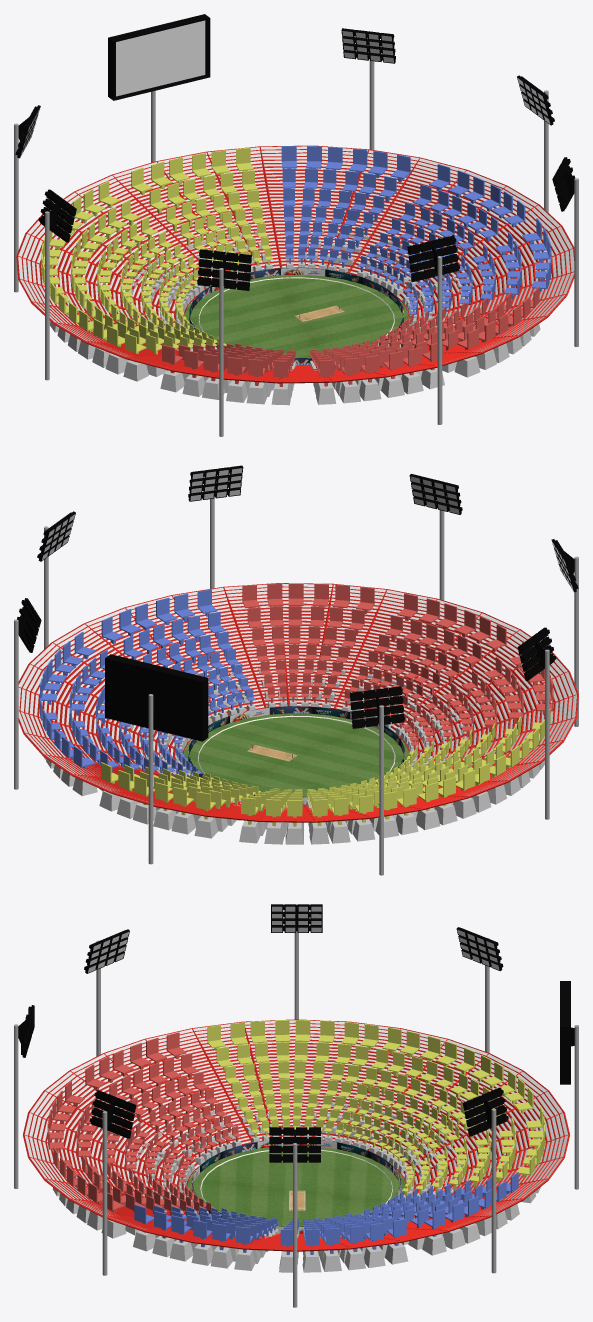
File: Cricket stadium.fbx
The picture shows the model from 3 angles, top to bottom: view 1: azimuth 30°, elevation 25°; view 2: azimuth 150°, elevation 25°; view 3: azimuth 270°, elevation 25°; orthographic projection. The views are drawn at different scales.
Visible parts, largest first — view 1: Chairs, outer area.001, outer area, Ground .009, Cube, Cube.002, Cylinder, Cube.003, Cube.006, Cube.001, Ground .001, Cube.005 (+7 smaller); view 2: Chairs, outer area.001, outer area, Ground .009, Cube, Cube.007, Cube.004, Cylinder, Cube.003, Cube.001, Ground .005, Cube.005 (+7 smaller); view 3: Chairs, outer area.001, outer area, Ground .009, Cube.005, Cylinder, Cube.001, Cube.004, Cube.006, Cube, Cube.007, Cube.002 (+6 smaller).
Boxes of the visible parts, bbox=[...] form: Chairs: bbox=[41, 145, 551, 405]; outer area.001: bbox=[16, 145, 574, 383]; outer area: bbox=[18, 146, 574, 365]; Ground .009: bbox=[184, 275, 408, 365]; Cube: bbox=[108, 14, 210, 100]; Cube.002: bbox=[197, 249, 251, 290]; Cylinder: bbox=[189, 267, 403, 365]; Cube.003: bbox=[407, 235, 459, 281]; Cube.006: bbox=[341, 28, 395, 63]; Cube.001: bbox=[38, 189, 76, 242]; Ground .001: bbox=[437, 256, 442, 424]; Cube.005: bbox=[517, 75, 554, 125]; Chairs: bbox=[39, 583, 553, 844]; outer area.001: bbox=[18, 583, 578, 822]; outer area: bbox=[18, 583, 576, 801]; Ground .009: bbox=[184, 713, 409, 804]; Cube: bbox=[105, 654, 208, 741]; Cube.007: bbox=[350, 686, 404, 728]; Cube.004: bbox=[188, 465, 243, 501]; Cylinder: bbox=[188, 706, 404, 804]; Cube.003: bbox=[409, 474, 462, 514]; Cube.001: bbox=[517, 627, 556, 680]; Ground .005: bbox=[148, 694, 153, 864]; Cube.005: bbox=[37, 511, 75, 561]; Chairs: bbox=[47, 1020, 545, 1272]; outer area.001: bbox=[23, 1019, 569, 1251]; outer area: bbox=[24, 1020, 568, 1229]; Ground .009: bbox=[187, 1146, 405, 1233]; Cube.005: bbox=[269, 1127, 320, 1162]; Cylinder: bbox=[191, 1140, 401, 1233]; Cube.001: bbox=[271, 904, 322, 932]; Cube.004: bbox=[89, 1090, 136, 1138]; Cube.006: bbox=[463, 1087, 508, 1136]; Cube: bbox=[560, 981, 574, 1084]; Cube.007: bbox=[456, 927, 503, 971]; Cube.002: bbox=[84, 929, 129, 973].
Size of the model in its own units: 19123 by 7009 by 19122.
